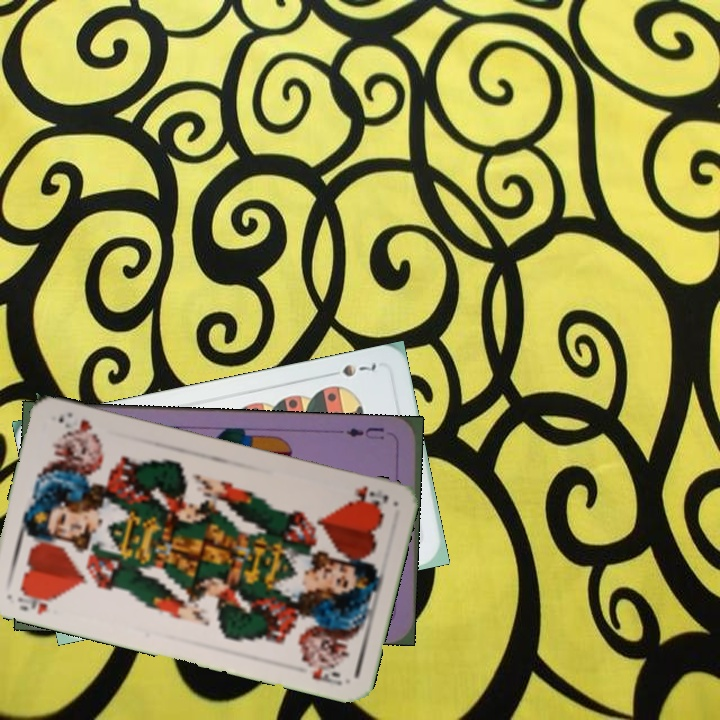EU: (342, 423, 387, 442)
HO: (13, 585, 59, 617), (344, 482, 391, 511)
S7: (323, 357, 379, 379)
